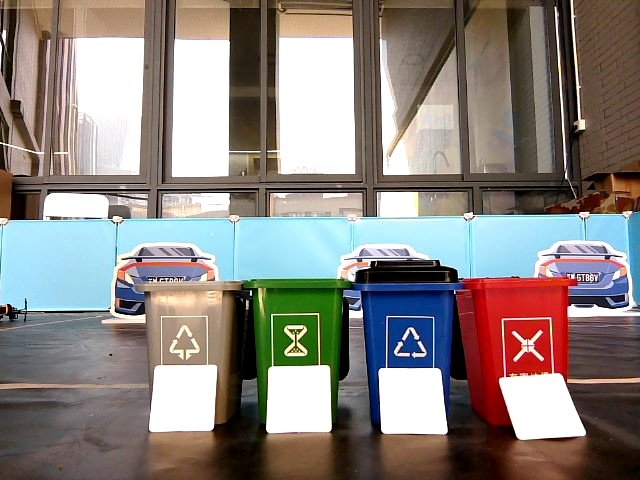blue_close: (361, 259, 447, 364)
green_open: (256, 279, 338, 362)
grey_open: (144, 282, 237, 364)
red_open: (472, 278, 562, 374)
